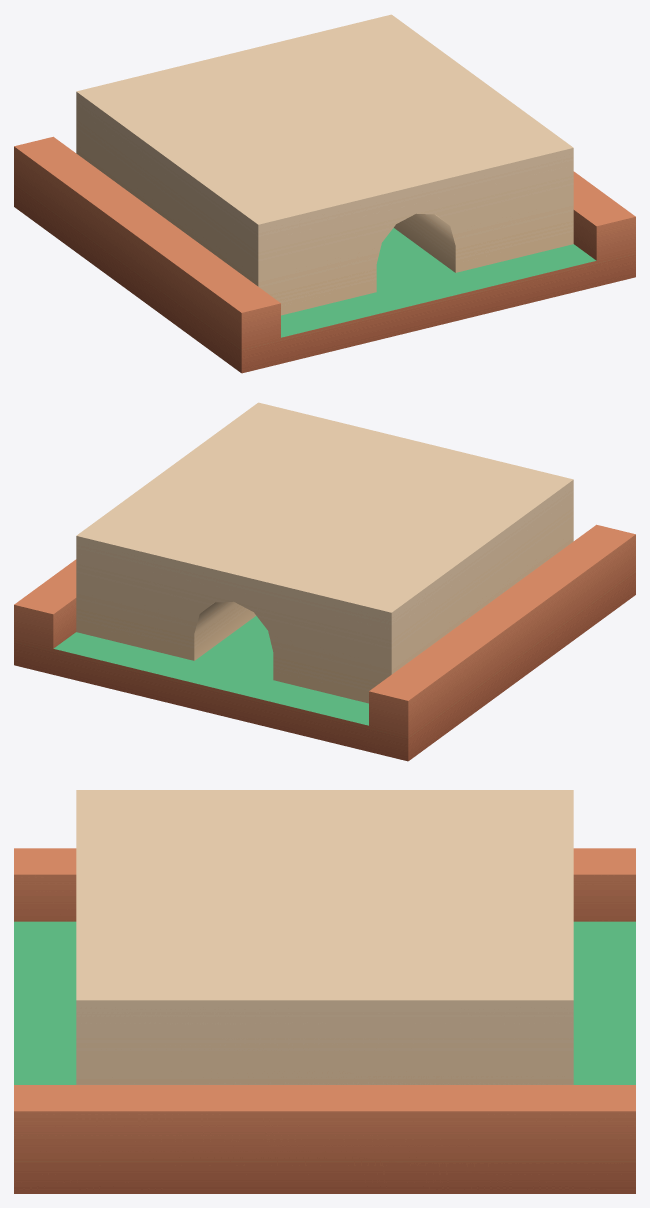
The model's file is tunnel-narrow.glb.
3 views of the same model, one above another, from view 1: azimuth 30°, elevation 25°; view 2: azimuth 150°, elevation 25°; view 3: azimuth 270°, elevation 25° (orthographic). The views are drawn at different scales.
Visible parts, largest first — view 1: tunnel-narrow; view 2: tunnel-narrow; view 3: tunnel-narrow.
Part boxes in pixels (x1=…): tunnel-narrow: x1=14, y1=14, x2=635, y2=373; tunnel-narrow: x1=14, y1=402, x2=635, y2=761; tunnel-narrow: x1=14, y1=790, x2=635, y2=1193.
Size of the model in its own units: 0.9999 by 0.2966 by 0.9999.
Materials: 1 (1 with a texture image).
